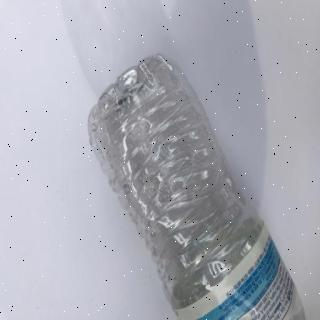Plastic-bottle: (87, 52, 310, 320)
